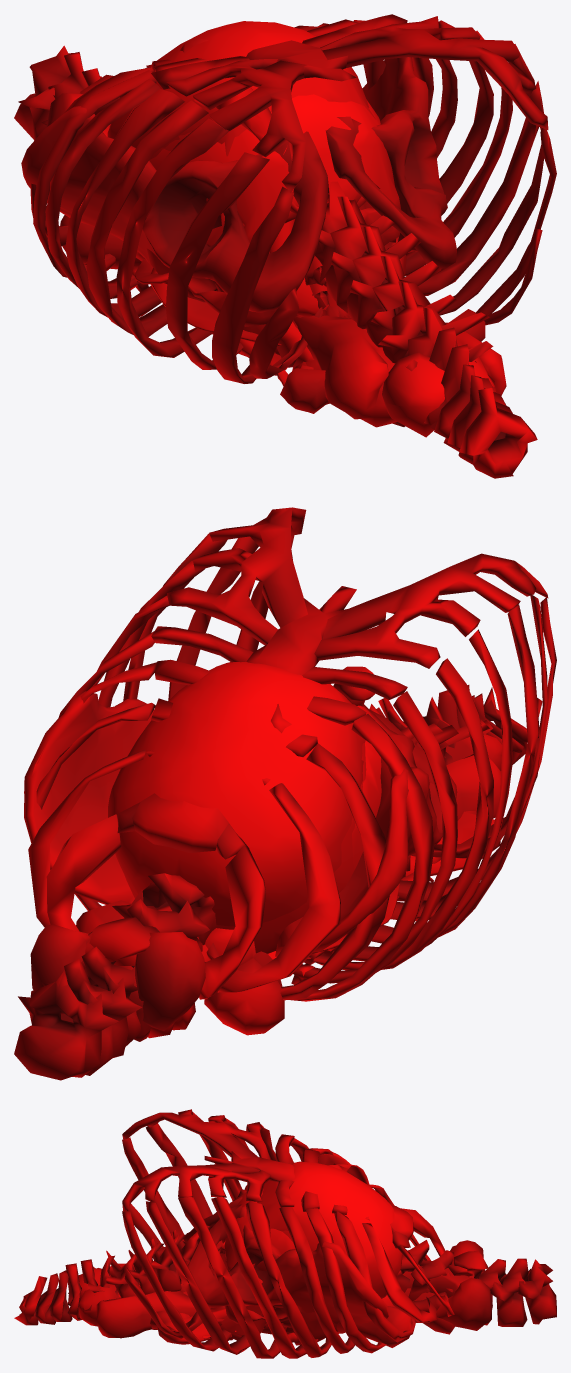
Rendered from AnimalParts_Skeleton.fbx.
3 renders of one model, top to bottom at view 1: azimuth 30°, elevation 25°; view 2: azimuth 150°, elevation 25°; view 3: azimuth 270°, elevation 25°, orthographic. The views are drawn at different scales.
Parts seen in each view (by area): view 1: alt354, alt355, alt353, alt358, alt1, alt351, alt347, alt344, alt343, alt356, alt339, alt340 (+1 smaller); view 2: alt354, alt1, alt353, alt355, alt347, alt351, alt339, alt346, alt356, alt343, alt358, alt344 (+1 smaller); view 3: alt354, alt353, alt355, alt1, alt347, alt351, alt358, alt346, alt343, alt339, alt349.
Boxes of the visible parts, <box> form: alt354: <box>30,14,556,383</box>; alt355: <box>21,57,456,312</box>; alt353: <box>14,45,537,478</box>; alt358: <box>146,94,406,326</box>; alt1: <box>107,21,375,316</box>; alt351: <box>294,315,495,427</box>; alt347: <box>46,93,506,437</box>; alt344: <box>135,87,328,316</box>; alt343: <box>280,360,329,413</box>; alt356: <box>143,132,399,355</box>; alt339: <box>60,215,485,341</box>; alt340: <box>150,38,281,346</box>; alt354: <box>28,507,556,1001</box>; alt1: <box>108,661,365,926</box>; alt353: <box>14,685,527,1080</box>; alt355: <box>24,691,457,956</box>; alt347: <box>134,734,502,1030</box>; alt351: <box>30,754,500,1041</box>; alt339: <box>204,951,284,1035</box>; alt346: <box>85,905,199,1038</box>; alt356: <box>124,743,366,953</box>; alt343: <box>76,811,500,933</box>; alt358: <box>324,705,406,955</box>; alt344: <box>312,666,374,953</box>; alt354: <box>122,1109,454,1358</box>; alt353: <box>14,1225,556,1326</box>; alt355: <box>183,1152,388,1333</box>; alt1: <box>210,1161,402,1335</box>; alt347: <box>78,1240,484,1338</box>; alt351: <box>78,1263,492,1330</box>; alt358: <box>220,1189,337,1345</box>; alt346: <box>118,1251,488,1312</box>; alt343: <box>356,1306,412,1347</box>; alt339: <box>150,1310,210,1344</box>; alt349: <box>94,1260,474,1334</box>.
Size of the model in its own units: 32.23 by 24.48 by 63.55.
